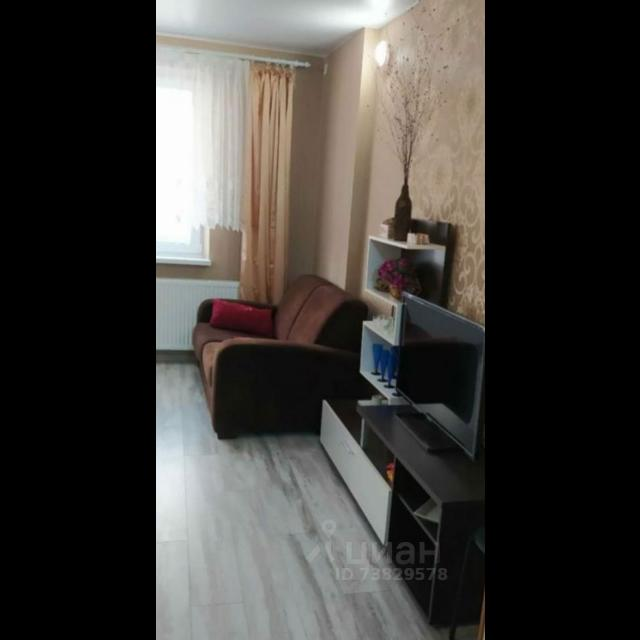Flat-Panel-TV: (393, 294, 483, 458)
